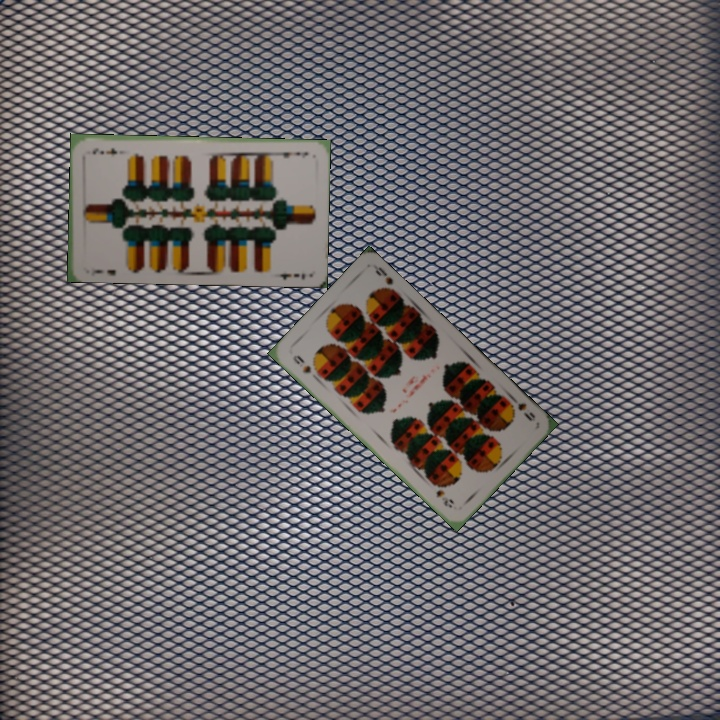E7: (273, 147, 311, 161), (88, 265, 118, 278)
S9: (506, 392, 538, 423), (289, 351, 314, 376)
